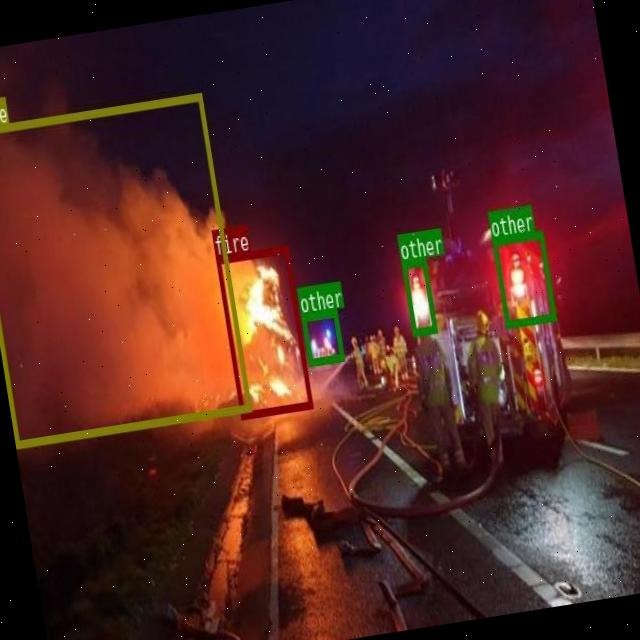fire: (215, 245, 312, 418)
smoke: (0, 92, 251, 447)
